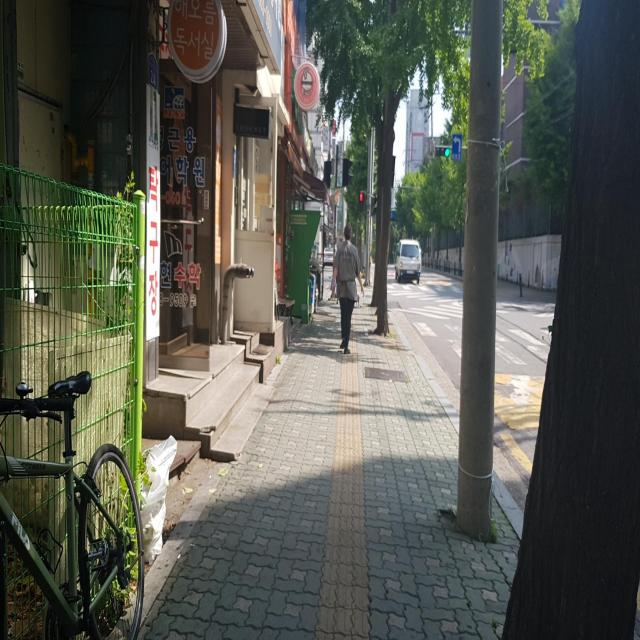빨간불: (358, 191, 365, 213)
횡단보도: (388, 283, 462, 349)
